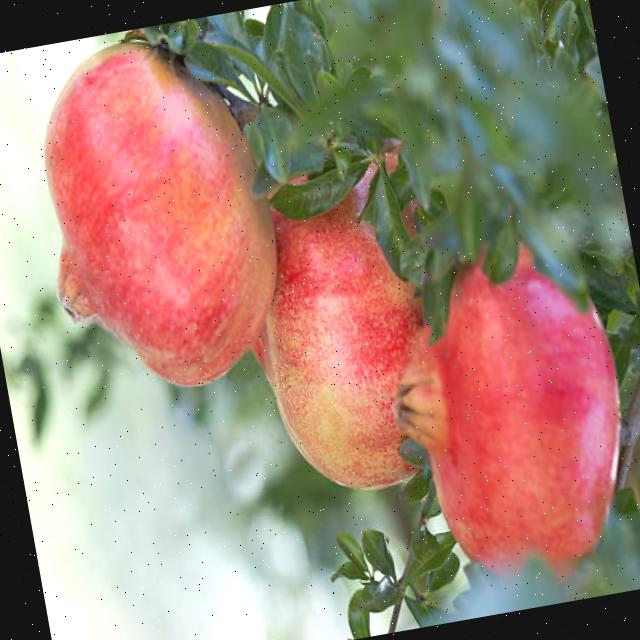Ripe: (18, 18, 308, 409), (376, 216, 640, 595), (235, 155, 478, 505)
